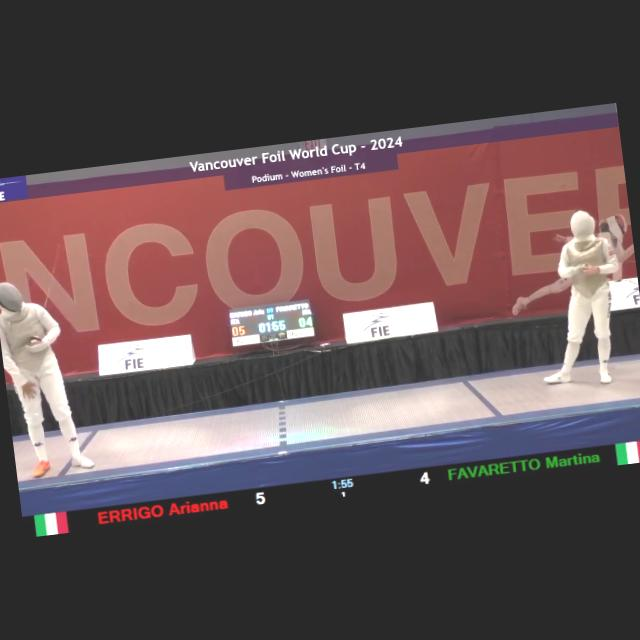blade: (21, 242, 70, 342)
